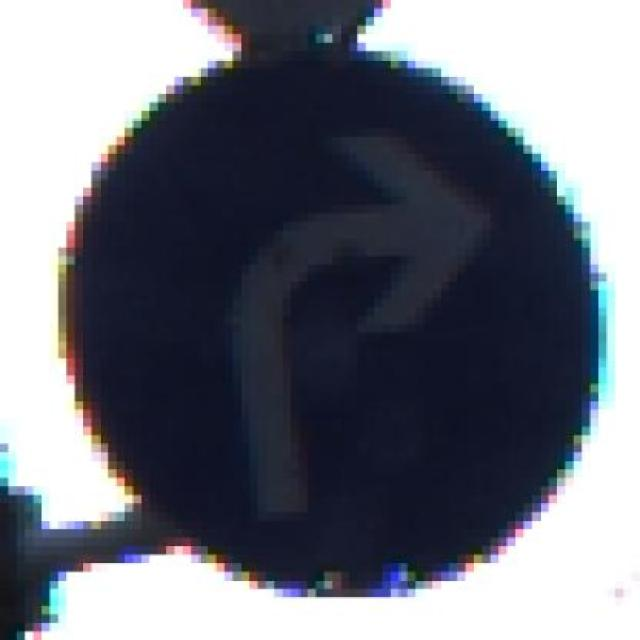Turn right ahead: (59, 42, 616, 615)
